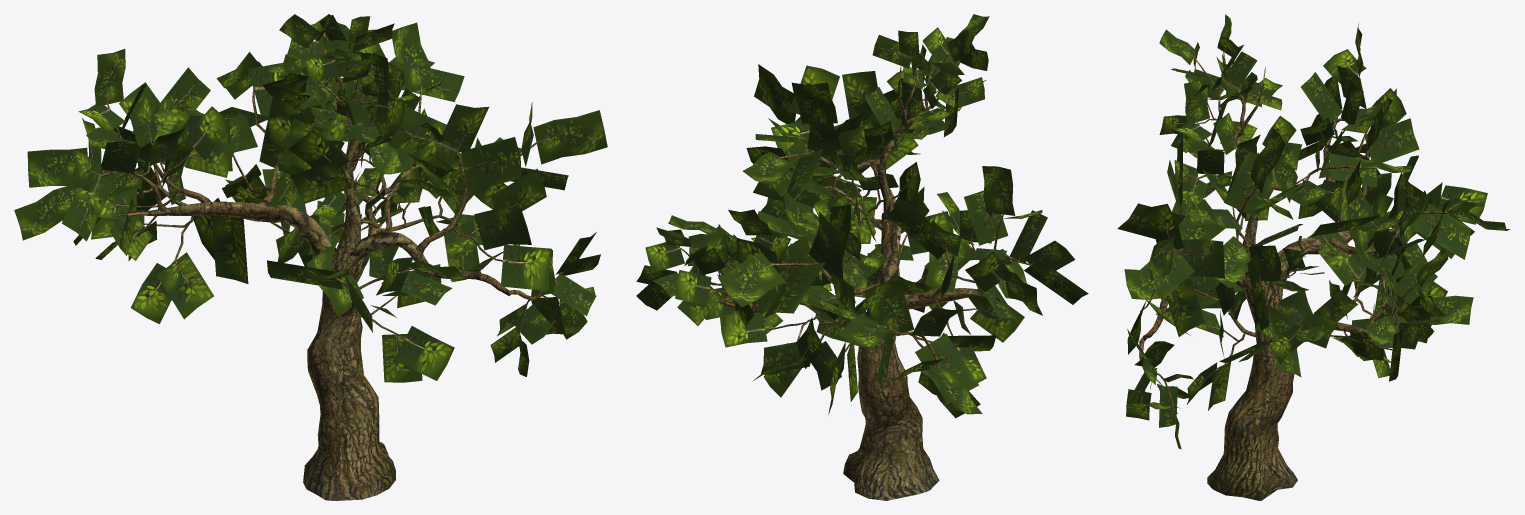
The model's file is Tree_C_high.FBX.
The picture shows the model from 3 angles, left to right: view 1: azimuth 30°, elevation 25°; view 2: azimuth 150°, elevation 25°; view 3: azimuth 270°, elevation 25°; orthographic projection. The views are drawn at different scales.
Visible parts, largest first — view 1: Tree_C_high; view 2: Tree_C_high; view 3: Tree_C_high.
Part boxes in pixels (left/top/right/bottom): Tree_C_high: left=14, top=14, right=607, bottom=500; Tree_C_high: left=636, top=14, right=1088, bottom=500; Tree_C_high: left=1117, top=14, right=1509, bottom=500.
Size of the model in its own units: 807 by 834 by 677.
